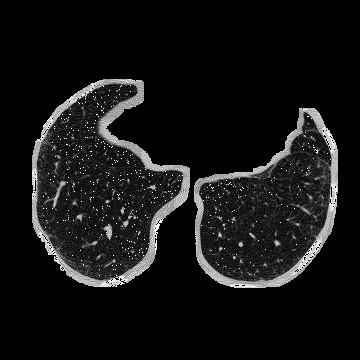PN: (314, 149, 318, 153)
